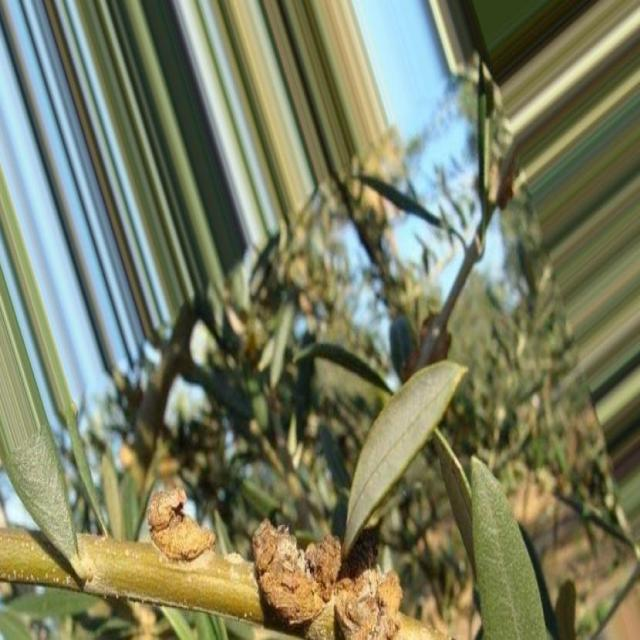Tuberculosis: (253, 520, 401, 639), (147, 486, 215, 564)
